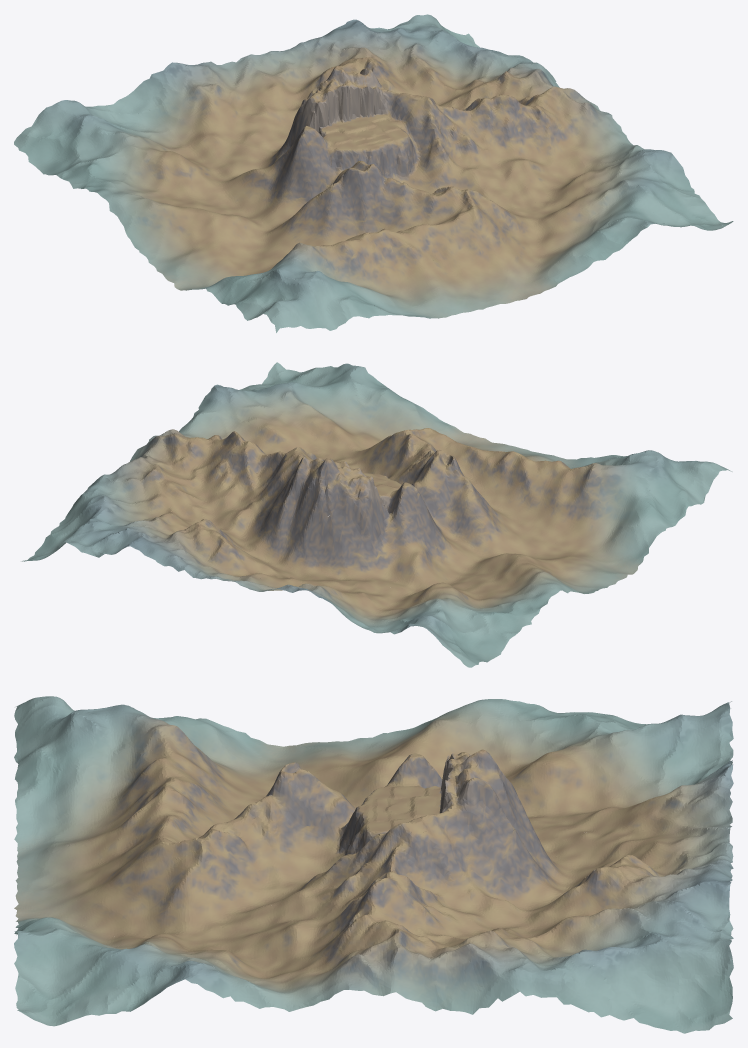
File: sect_baiqiao_ground.glb
3 views of the same model, one above another, from view 1: azimuth 30°, elevation 25°; view 2: azimuth 150°, elevation 25°; view 3: azimuth 270°, elevation 25° (orthographic). The views are drawn at different scales.
Visible parts, largest first — view 1: ground; view 2: ground; view 3: ground.
Boxes of the visible parts, x1=… form: ground: x1=14, y1=14, x2=733, y2=332; ground: x1=21, y1=362, x2=732, y2=667; ground: x1=14, y1=696, x2=733, y2=1033.
Size of the model in its own units: 3785 by 876 by 3785.
